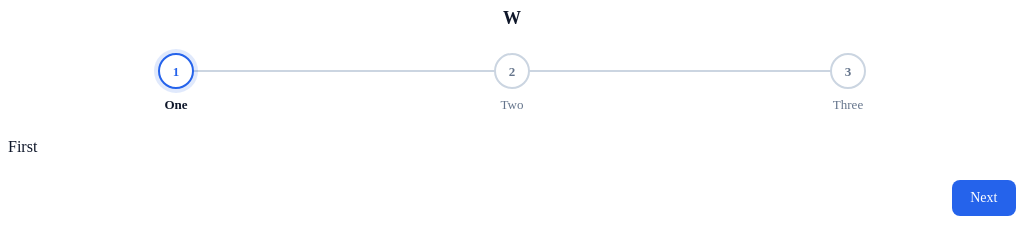
Test: accessibility › activates a tab with Enter and Space
The image size is (1024, 233).
Reach step 3 so earlier tabs become clickable.
Click the button "Next" at (984, 198), box top-left (952, 180), bottom-right (1016, 216)
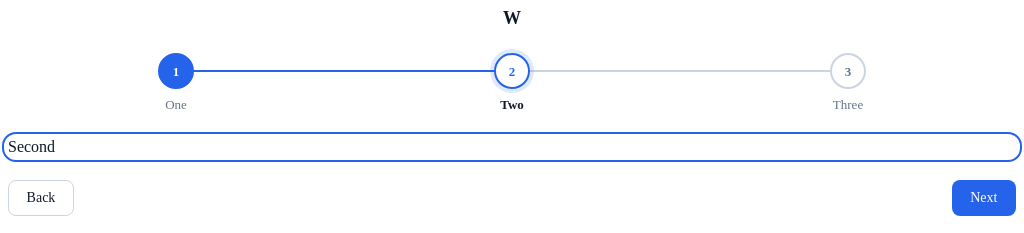
Click the button "Next" at (984, 198), box top-left (952, 180), bottom-right (1016, 216)
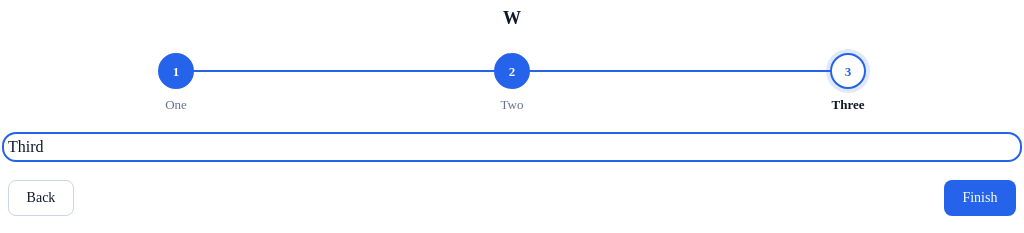
Press Enter in the tab "One", box top-left (158, 53), bottom-right (194, 112)
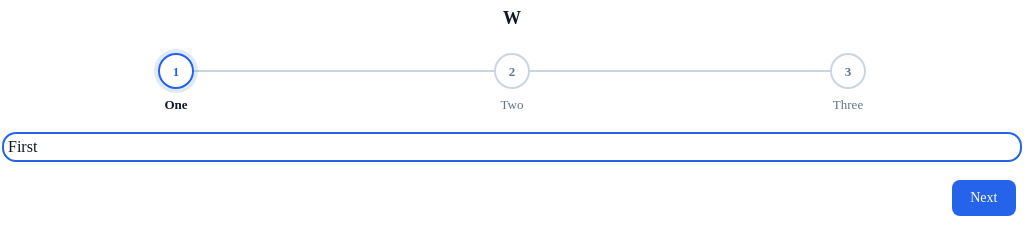
Expected: the text "First" is shown, top-left (8, 138), bottom-right (37, 155)
